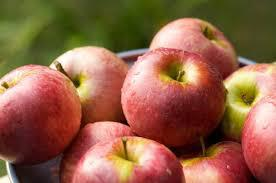apple: (128, 41, 220, 141), (1, 64, 78, 161), (53, 45, 129, 127), (150, 16, 240, 78), (72, 135, 188, 182), (217, 60, 274, 136), (180, 132, 244, 182), (242, 90, 275, 172)
